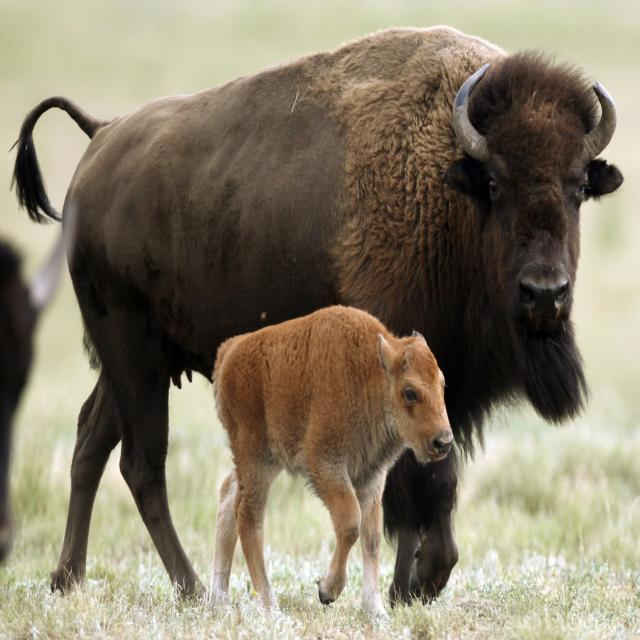Bison: (11, 24, 626, 624), (190, 307, 457, 612)
